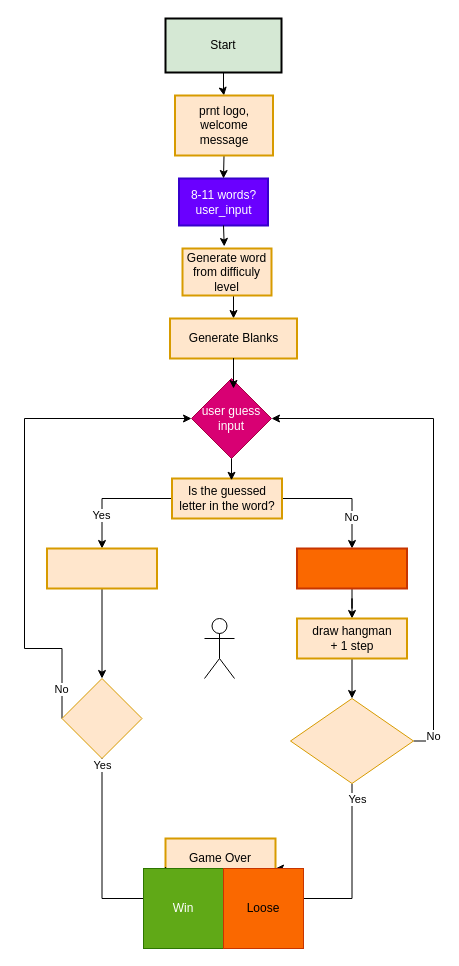
The diagram is 459 pixels wide and 966 high, and some of its shapes have lost their labels. The shapes that lost their labels are listed below. From the top down, each one's centre as x and y in pixels, then its label:
At [102,568]: "Replace blank with guess".
At [352,568]: "loose_life".
At [219,648]: "Häängman".
At [101,718]: "are all blanks filled?".
At [352,741]: "hangman hanged?".
